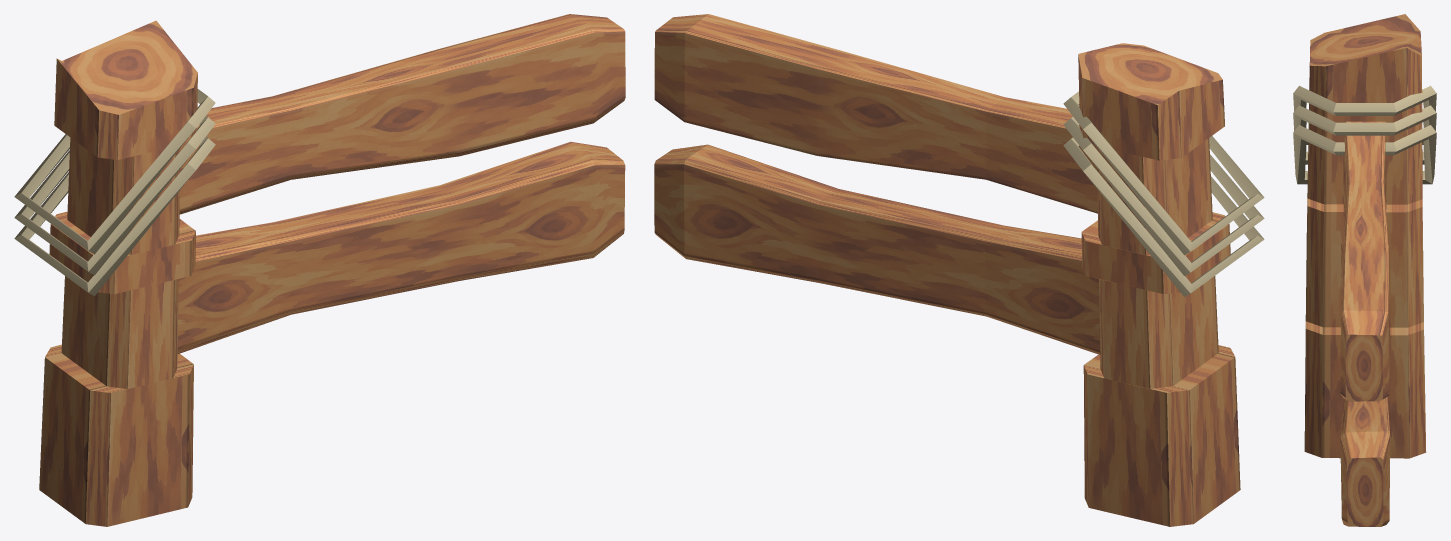
File: fence_w_150_b.glb
3 renders of one model, left to right at view 1: azimuth 30°, elevation 25°; view 2: azimuth 150°, elevation 25°; view 3: azimuth 270°, elevation 25°, orthographic. The views are drawn at different scales.
Parts seen in each view (by area): view 1: fence_w_150_b; view 2: fence_w_150_b; view 3: fence_w_150_b.
Boxes of the visible parts, x1,y1,x2,y2 form: fence_w_150_b: (14,14,625,526); fence_w_150_b: (654,14,1264,526); fence_w_150_b: (1293,14,1436,526).
Size of the model in its own units: 1.7 by 1.27 by 0.3989.
Materials: 1 (1 with a texture image).
